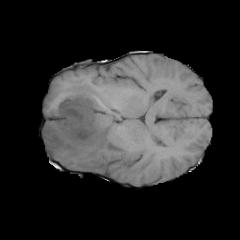glioma: (43, 82, 127, 171)
